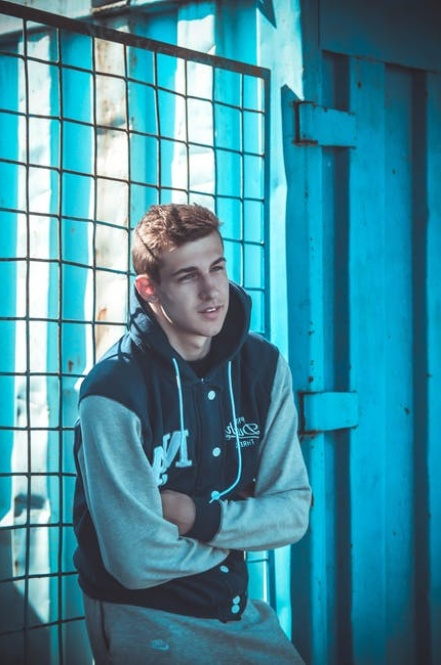face: (162, 232, 229, 336)
